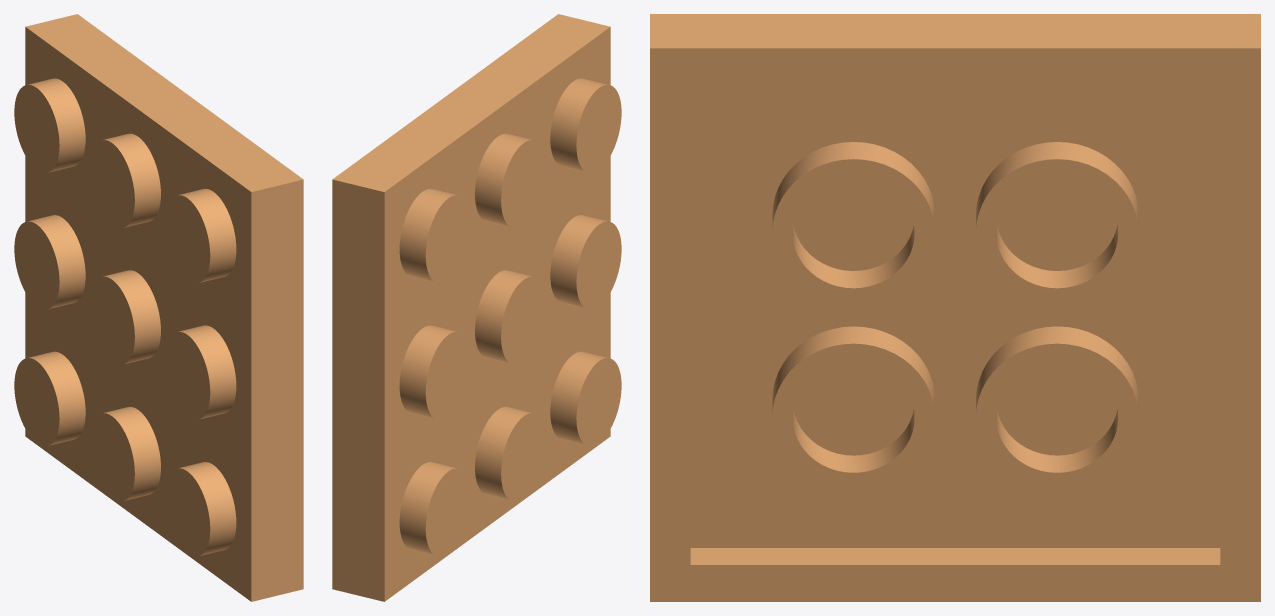
File: plate3*3_light_nougat.obj
3 renders of one model, left to right at view 1: azimuth 30°, elevation 25°; view 2: azimuth 150°, elevation 25°; view 3: azimuth 270°, elevation 25°, orthographic. The views are drawn at different scales.
Size of the model in its own units: 12 by 60 by 60.
